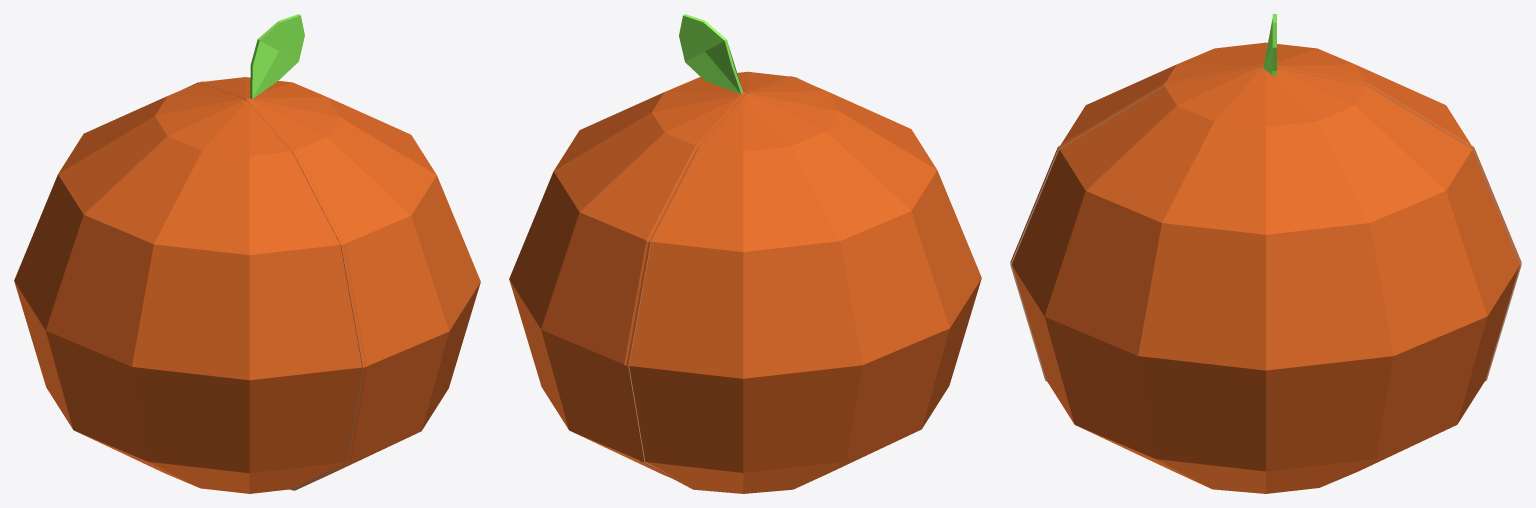
The model's file is narandzaSlicedKOOL.fbx.
3 views of the same model, side by side, from view 1: azimuth 30°, elevation 25°; view 2: azimuth 150°, elevation 25°; view 3: azimuth 270°, elevation 25° (orthographic). The views are drawn at different scales.
Parts seen in each view (by area): view 1: Sphere.011, Sphere.018; view 2: Sphere.011, Sphere.018; view 3: Sphere.018, Sphere.011.
Boxes of the visible parts, x1,y1,x2,y2 form: Sphere.011: (14,81,367,493); Sphere.018: (182,14,480,490); Sphere.011: (624,76,981,493); Sphere.018: (509,14,809,481); Sphere.018: (1010,14,1521,493); Sphere.011: (1010,42,1521,381).
Bounding box in the file's own units: 198 × 209 × 200.
